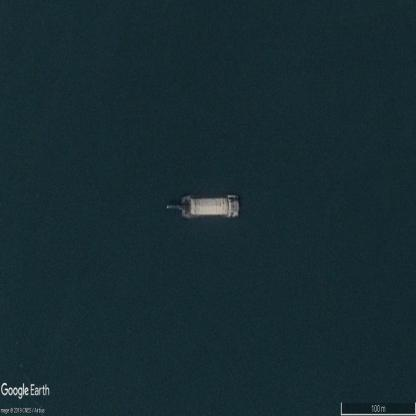ship: (168, 196, 242, 219)
